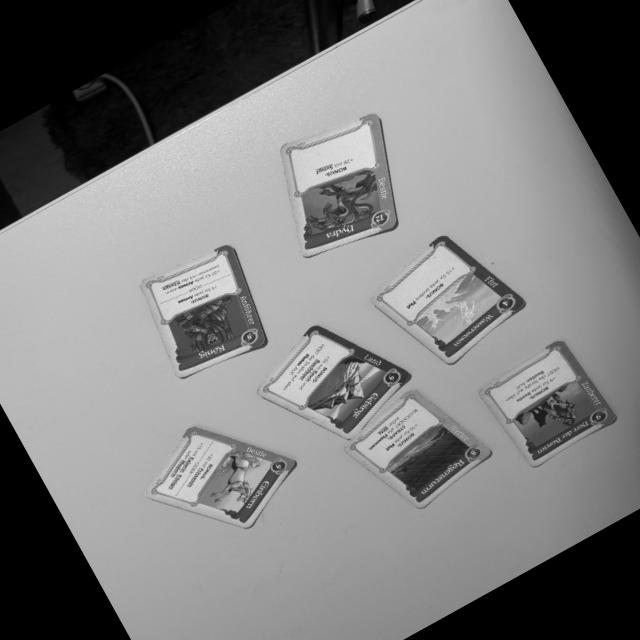Beast Master: (475, 334, 625, 471)
Hydra: (275, 112, 397, 263)
King: (136, 239, 277, 381)
Mountain: (254, 327, 414, 443)
Rainstorm: (342, 381, 500, 508)
Unicorn: (143, 421, 302, 531)
Water Elemental: (364, 228, 536, 368)
